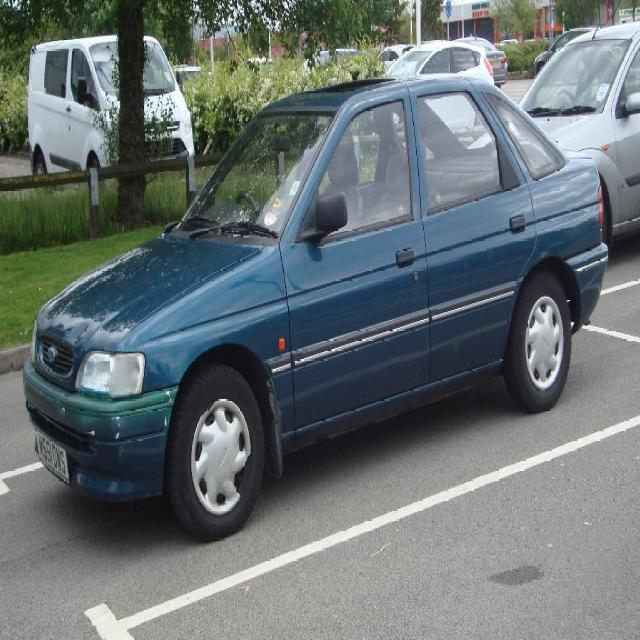car: (37, 74, 602, 544)
